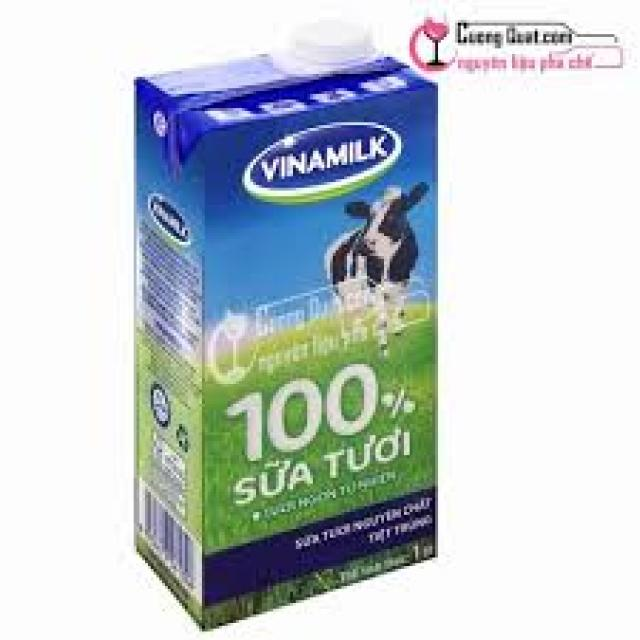non_white_jug: (102, 28, 458, 614)
